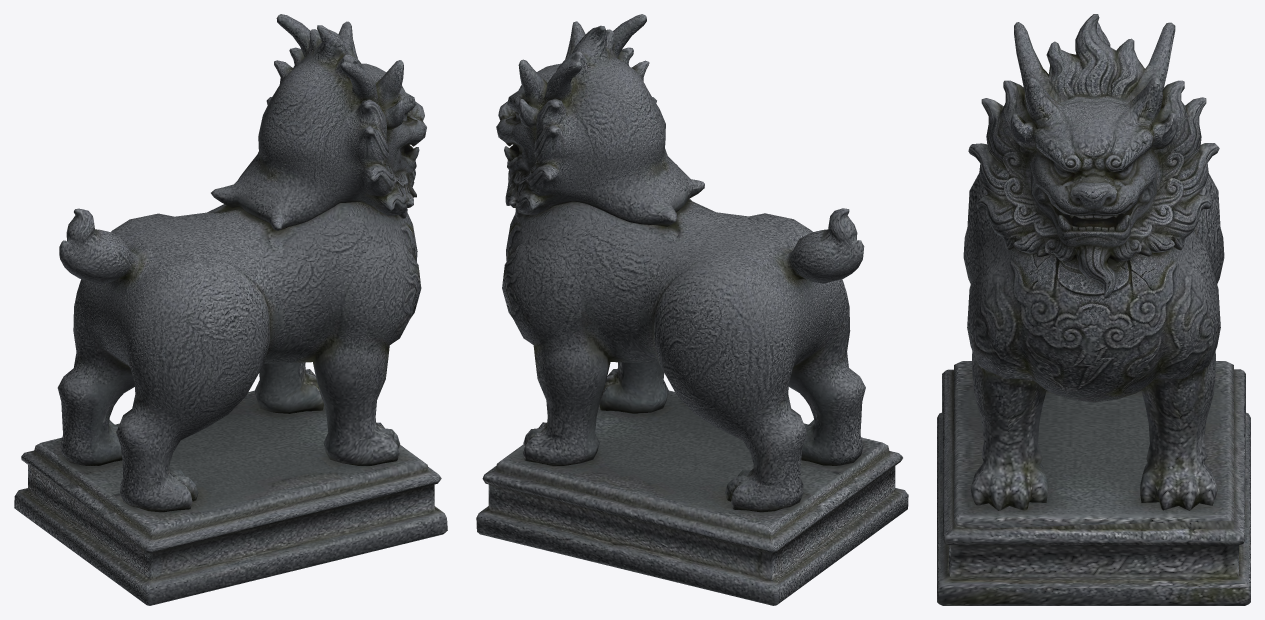
Rendered from tripo_convert_7c143e81-84e5-4abf-8459-cc179a84d68a.fbx.
3 views of the same model, side by side, from view 1: azimuth 30°, elevation 25°; view 2: azimuth 150°, elevation 25°; view 3: azimuth 270°, elevation 25° (orthographic). The views are drawn at different scales.
Parts seen in each view (by area): view 1: tripo_node_7c143e81; view 2: tripo_node_7c143e81; view 3: tripo_node_7c143e81.
Boxes of the visible parts, bbox=[...] form: tripo_node_7c143e81: bbox=[14, 14, 447, 605]; tripo_node_7c143e81: bbox=[476, 14, 908, 605]; tripo_node_7c143e81: bbox=[937, 14, 1250, 605].
Size of the model in its own units: 0.7949 by 0.998 by 0.5098.
1 material, 1 textured.
